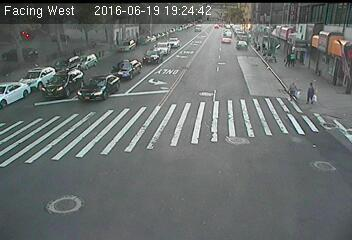neg: (71, 68, 88, 90), (106, 34, 118, 50), (95, 49, 107, 65)
pos: (284, 78, 304, 104), (304, 80, 321, 102)
